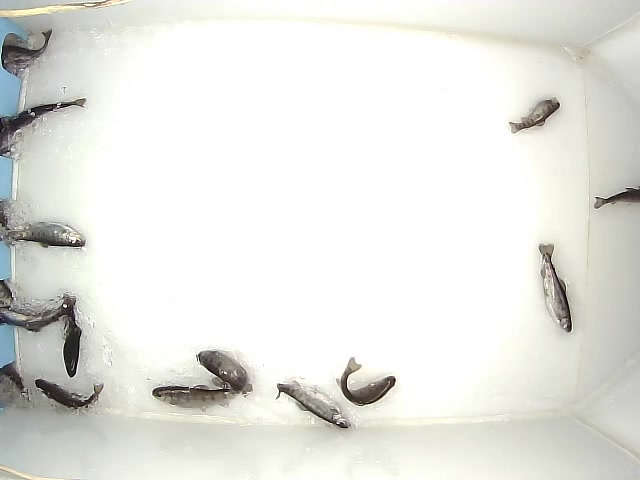fish: (275, 378, 353, 429), (1, 96, 88, 135), (334, 356, 397, 409), (538, 241, 572, 333), (151, 385, 255, 413), (1, 221, 87, 249), (196, 349, 250, 393), (34, 378, 105, 410), (508, 95, 561, 135), (61, 292, 82, 380), (593, 186, 640, 212)
